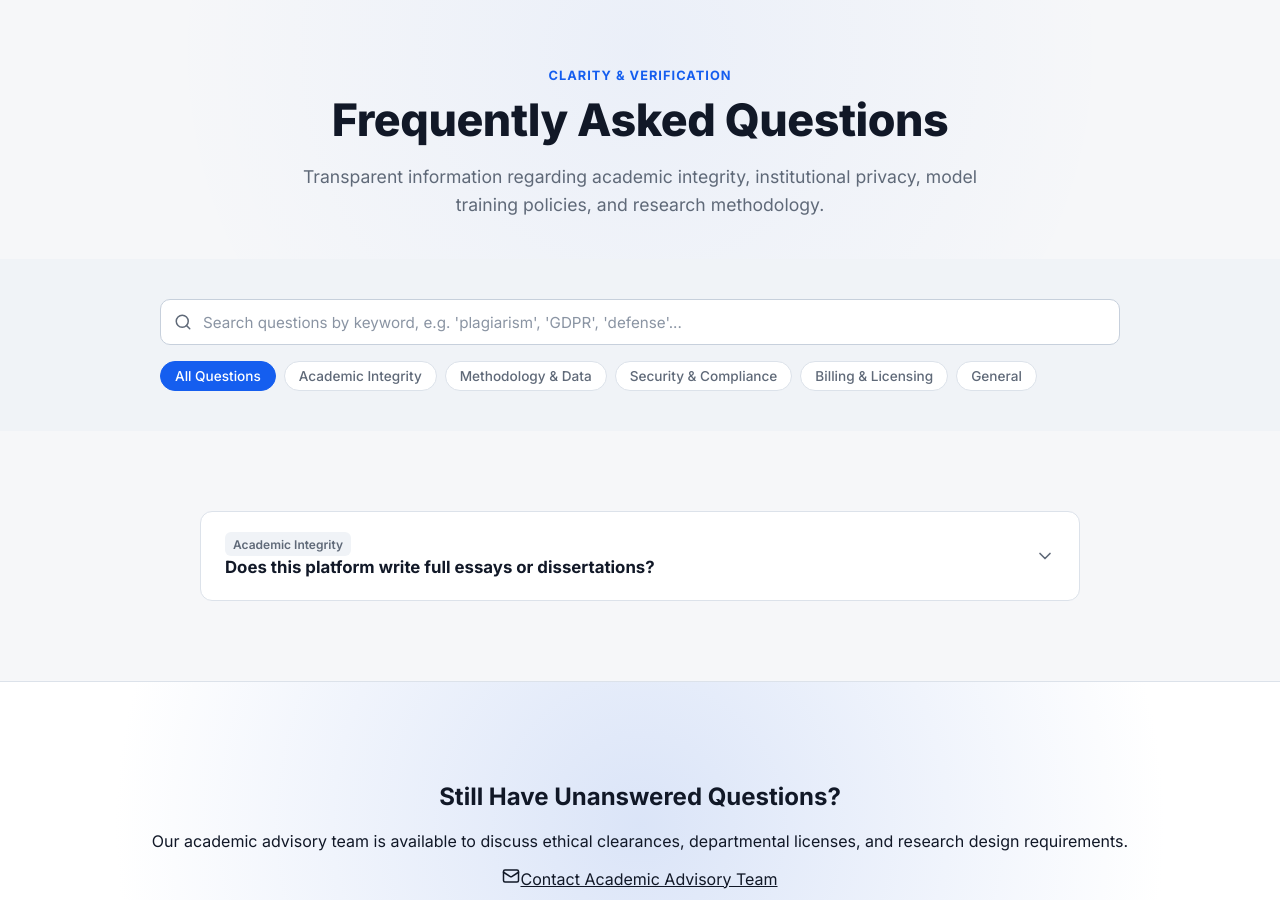
Test: Public Pages Suite › FaqPage renders questions and expands accordion on click
The width and height of the screenshot is (1280, 900).
// Click to expand answer
Click the button "Does this platform write full essays or dissertations" at (640, 556), box [201,512,1079,600]
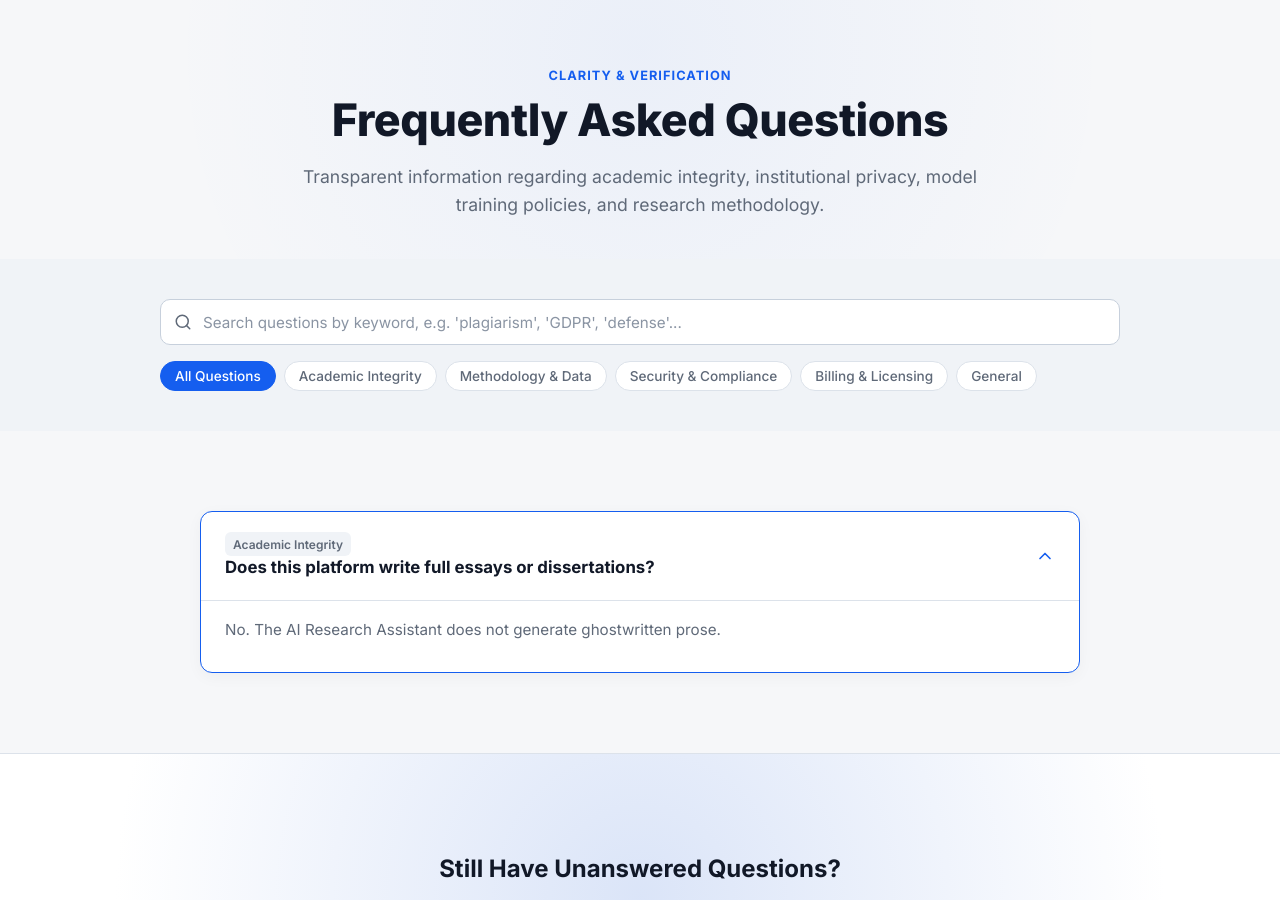
Now the text "No. The AI Research Assistant does not generate ghostwritten prose." is shown, box [225,620,721,639]
